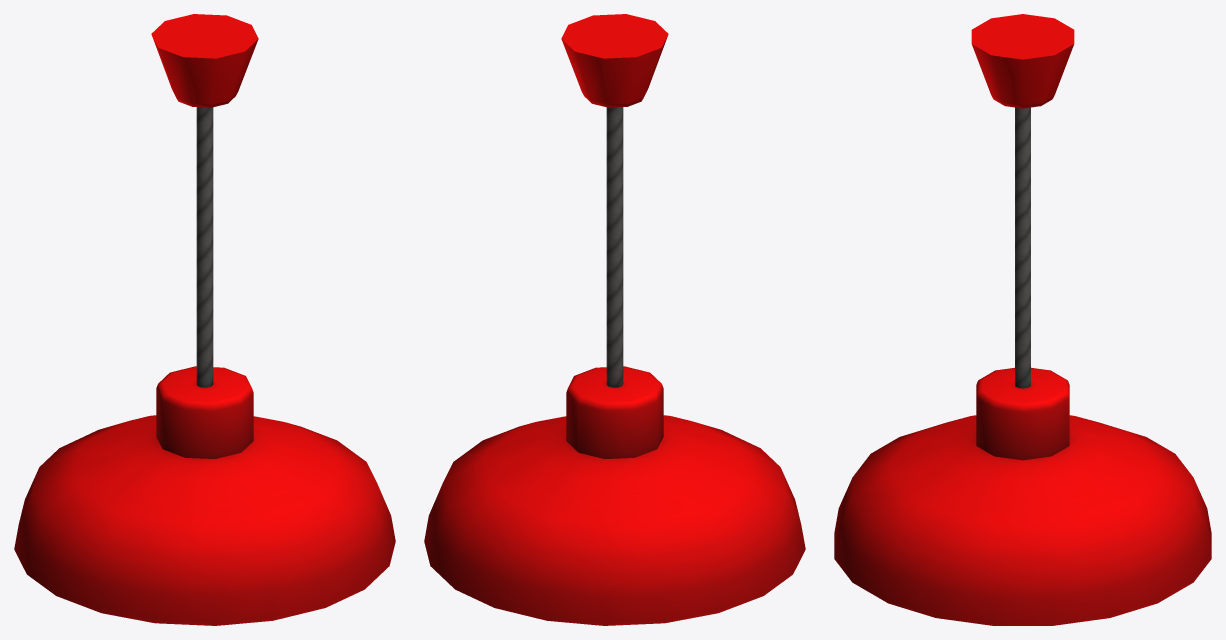
File: CafeLampCeiling01.FBX
The picture shows the model from 3 angles, left to right: view 1: azimuth 30°, elevation 25°; view 2: azimuth 150°, elevation 25°; view 3: azimuth 270°, elevation 25°; orthographic projection.
Visible parts, largest first — view 1: CafeLampCeiling01; view 2: CafeLampCeiling01; view 3: CafeLampCeiling01.
Part boxes in pixels (left/top/right/bottom): CafeLampCeiling01: left=14, top=14, right=395, bottom=625; CafeLampCeiling01: left=424, top=14, right=805, bottom=625; CafeLampCeiling01: left=834, top=14, right=1211, bottom=625.
Size of what is drawn, in the model's own units: 0.5509 by 0.8629 by 0.5504.
